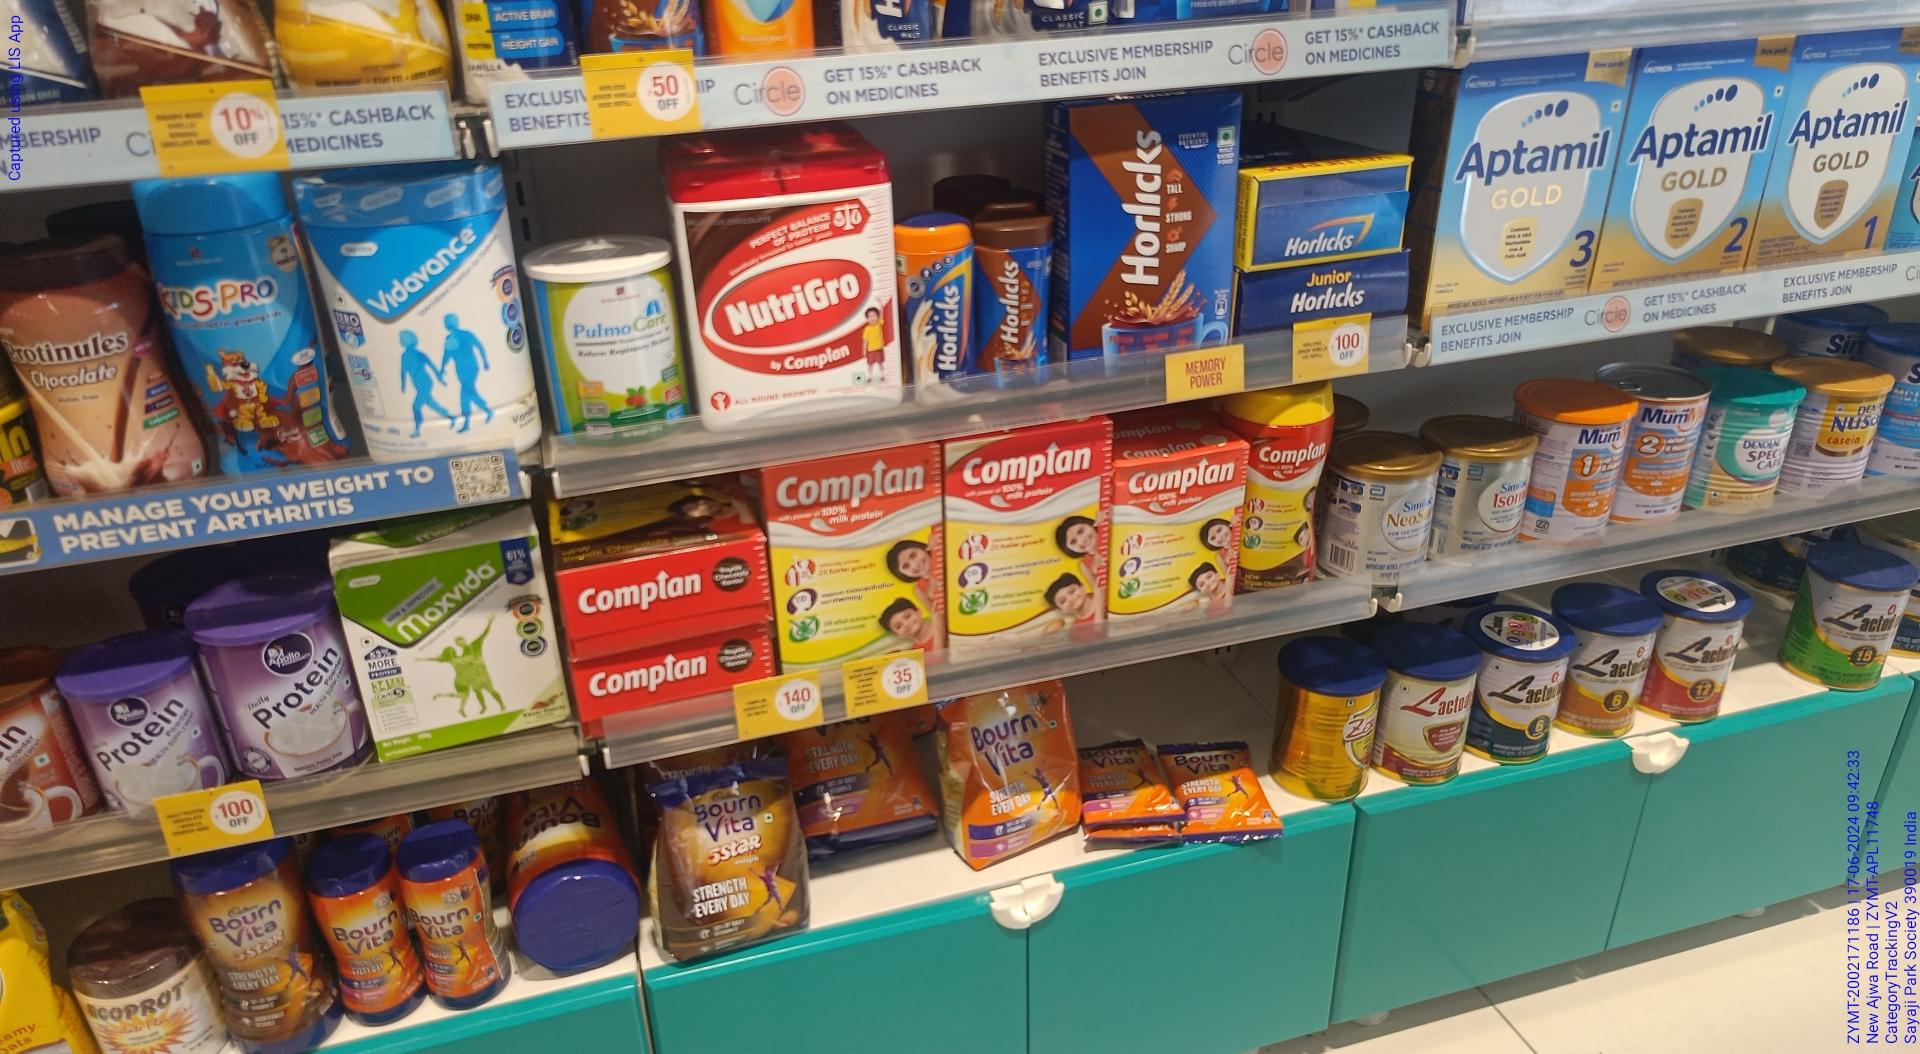BOURN_VITA_75_G_POUCH: (1174, 742, 1270, 839)
COMPLAN_CHOCOLATE_500_GMS_JAR: (1242, 386, 1325, 593)
COMPLAN_KESAR_BADAM_200_GMS_PACK: (1110, 448, 1235, 618)
